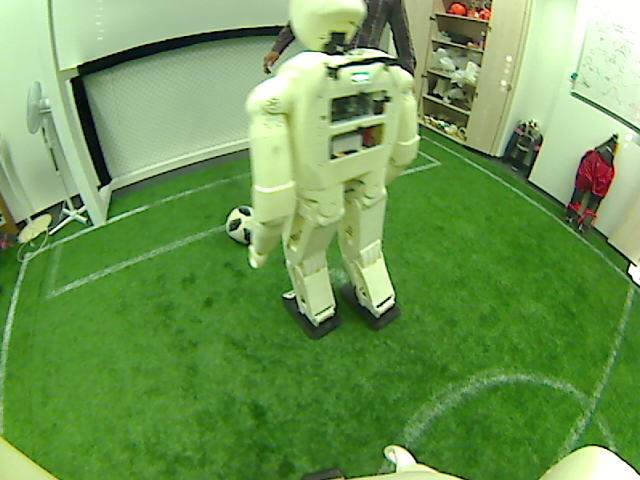ball: (226, 212, 258, 238)
goalpost: (90, 187, 112, 224)
robot: (324, 254, 378, 331), (569, 155, 580, 225)
